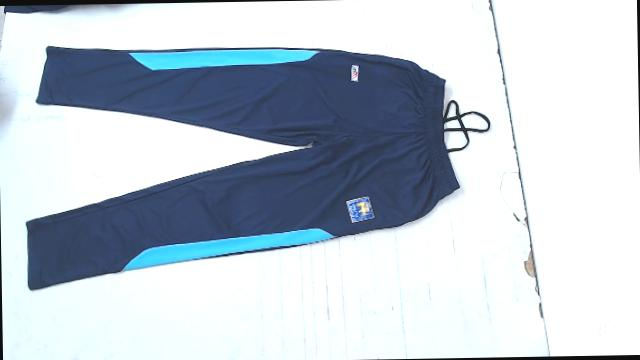new-garment: (27, 46, 488, 289)
